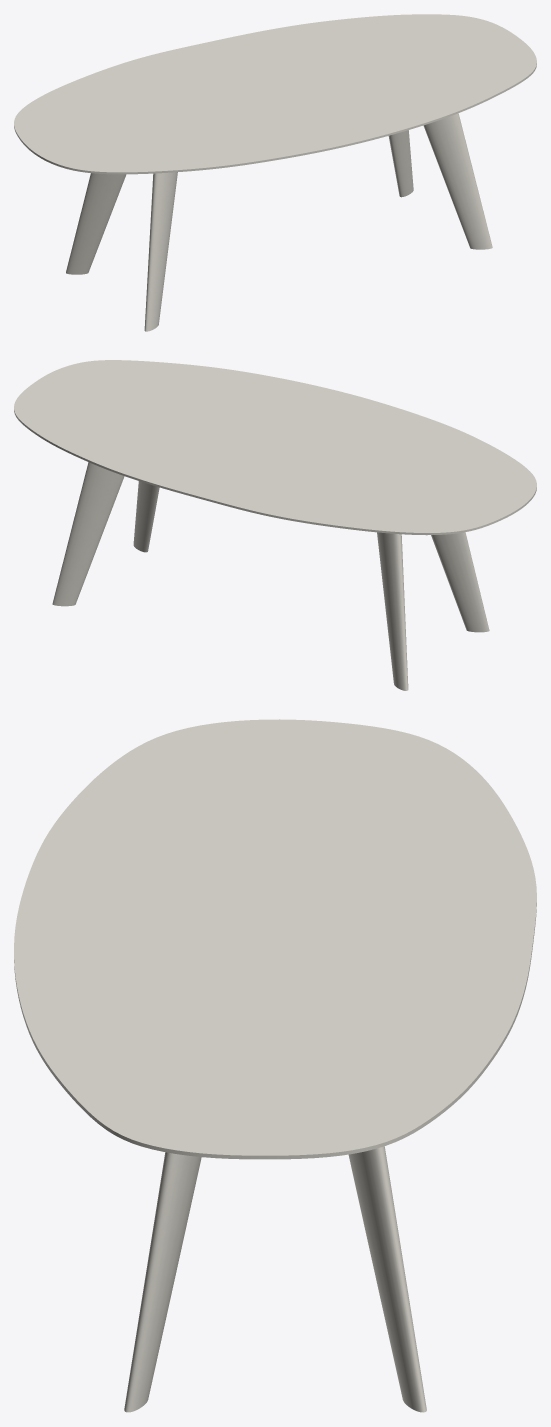
The model's file is pale_danish_facet_ferdinantwalnut.glb.
3 views of the same model, one above another, from view 1: azimuth 30°, elevation 25°; view 2: azimuth 150°, elevation 25°; view 3: azimuth 270°, elevation 25° (orthographic). The views are drawn at different scales.
Visible parts, largest first — view 1: facet_danish, ferdinandwalnut; view 2: facet_danish, ferdinandwalnut; view 3: facet_danish, ferdinandwalnut.
Boxes of the visible parts, x1,y1,x2,y2 form: facet_danish: (14, 14, 536, 174); ferdinandwalnut: (66, 113, 492, 331); facet_danish: (14, 360, 536, 535); ferdinandwalnut: (52, 462, 489, 690); facet_danish: (14, 719, 536, 1159); ferdinandwalnut: (124, 1146, 426, 1412).
Size of the model in its own units: 7.5 by 2.51 by 3.8.
1 material, 1 textured.
